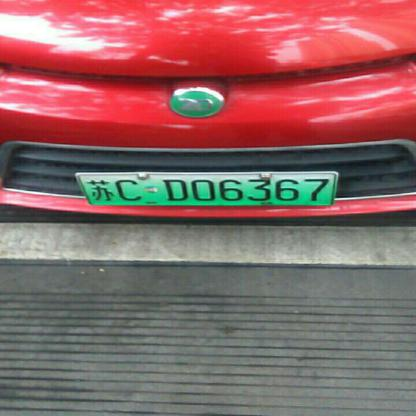lp: (76, 172, 335, 205)
